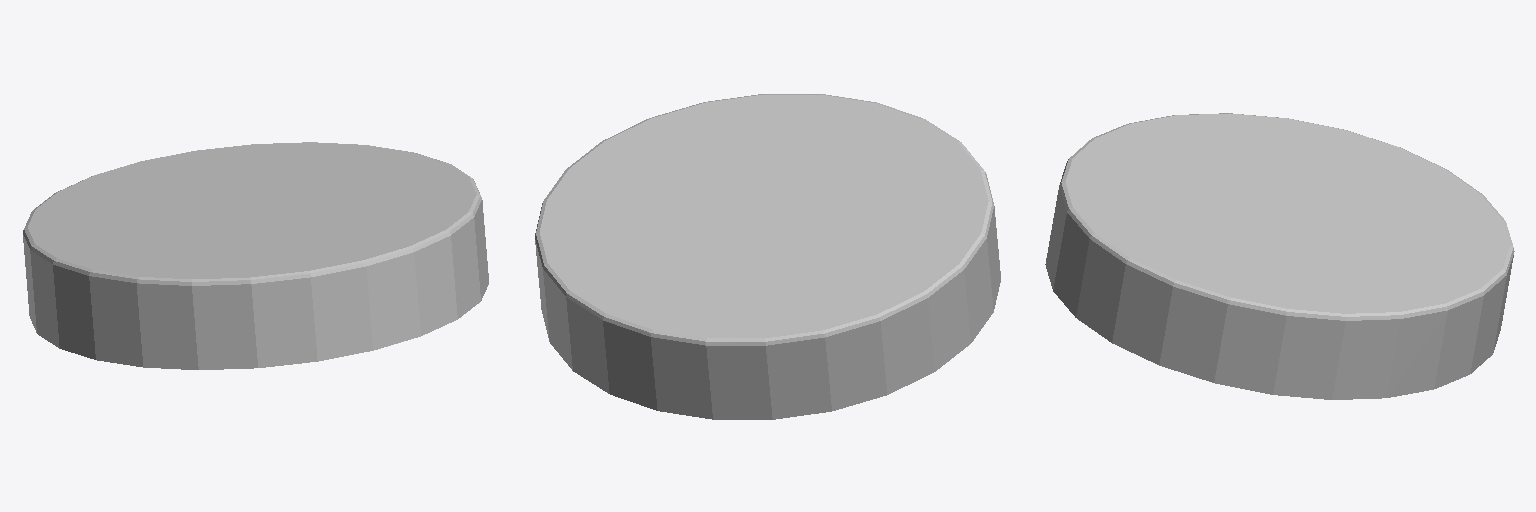
Rendered from vr_controller_05_wireless_b_button.obj.
3 views of the same model, side by side, from view 1: azimuth 30°, elevation 25°; view 2: azimuth 150°, elevation 25°; view 3: azimuth 270°, elevation 25° (orthographic).
Visible parts, largest first — view 1: button group1; view 2: button group1; view 3: button group1.
Boxes of the visible parts, x1,y1,x2,y2 form: button group1: [23, 142, 488, 369]; button group1: [535, 94, 1000, 419]; button group1: [1045, 113, 1514, 399].
Bounding box in the file's own units: 0.0074 × 0.0026 × 0.0075.